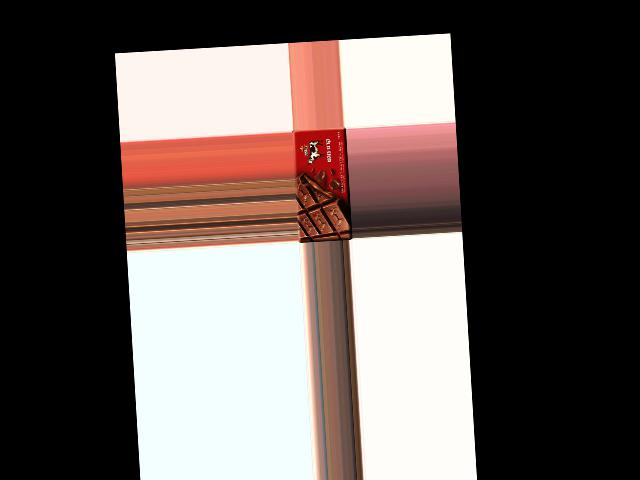chocolate: (292, 126, 351, 241)
